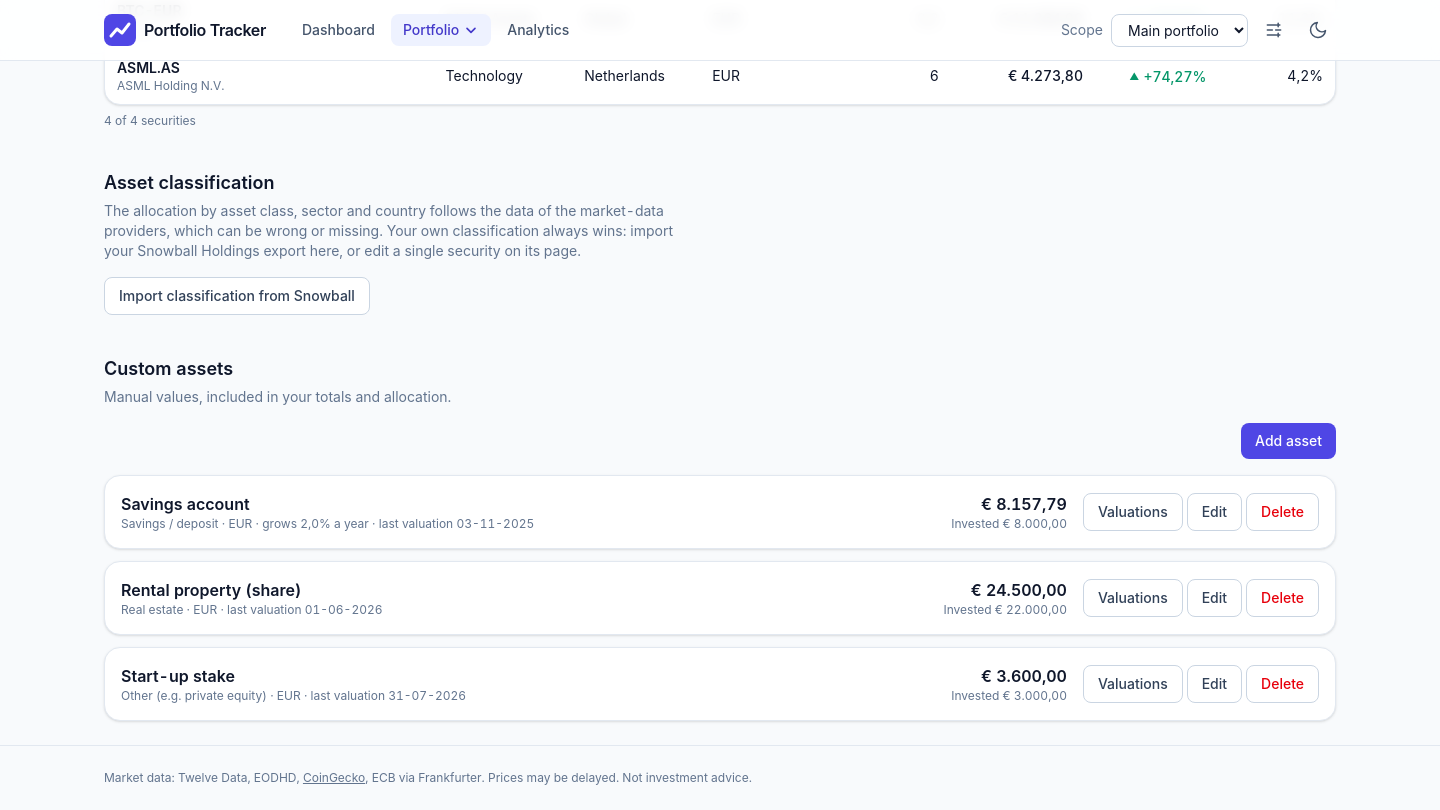
Test: AssetsPage › adds and deletes valuation points
(page scrolled)
Check: the heading "Rental property (share)" is shown, box [121,580,301,600]
Click the button with aria-label "Valuations of Savings account": (1133, 512) [1083,493,1183,531]
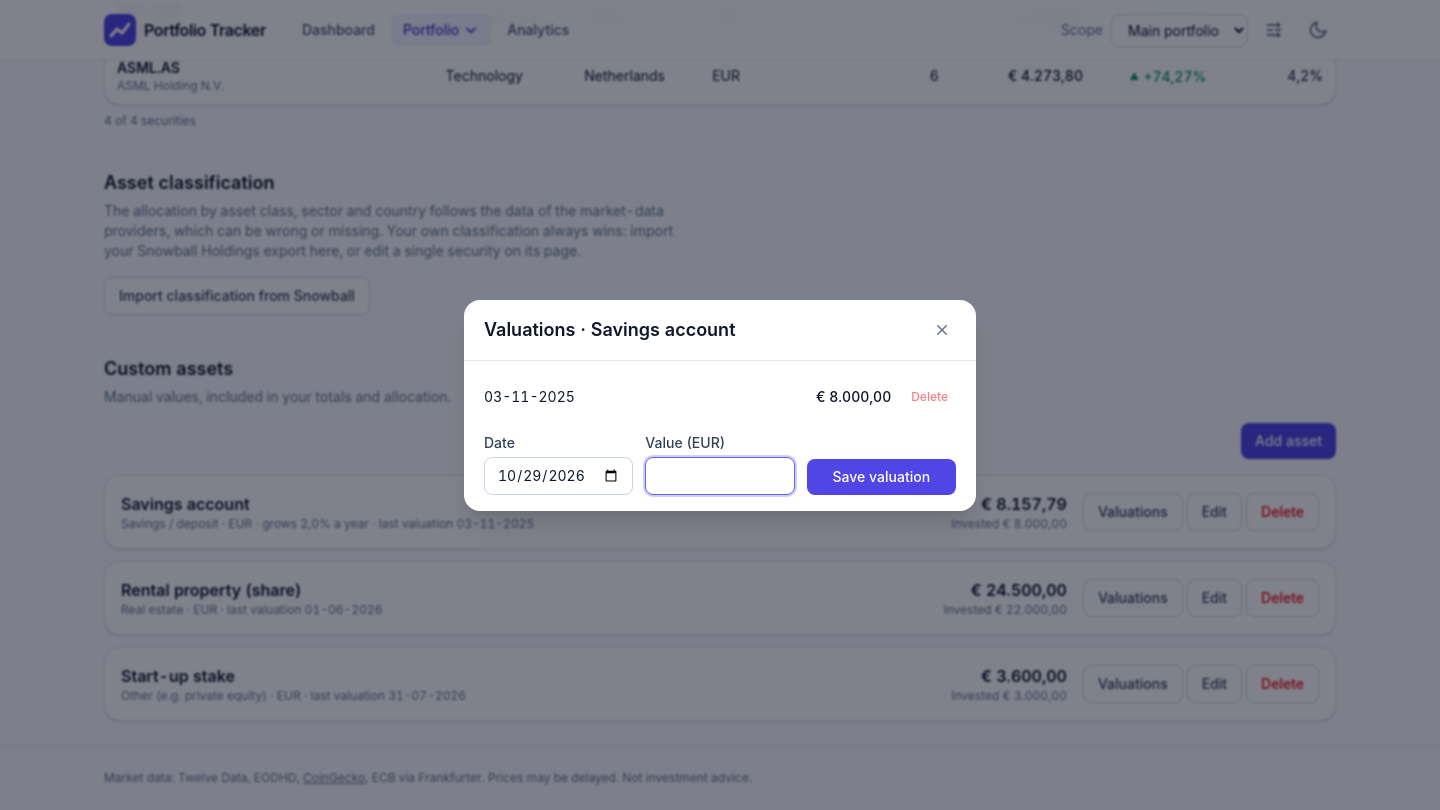
Check: the button with aria-label "Delete valuation of" is disabled, box [903,384,956,408]
Click the button "Save valuation": (881, 476) [807,458,956,494]
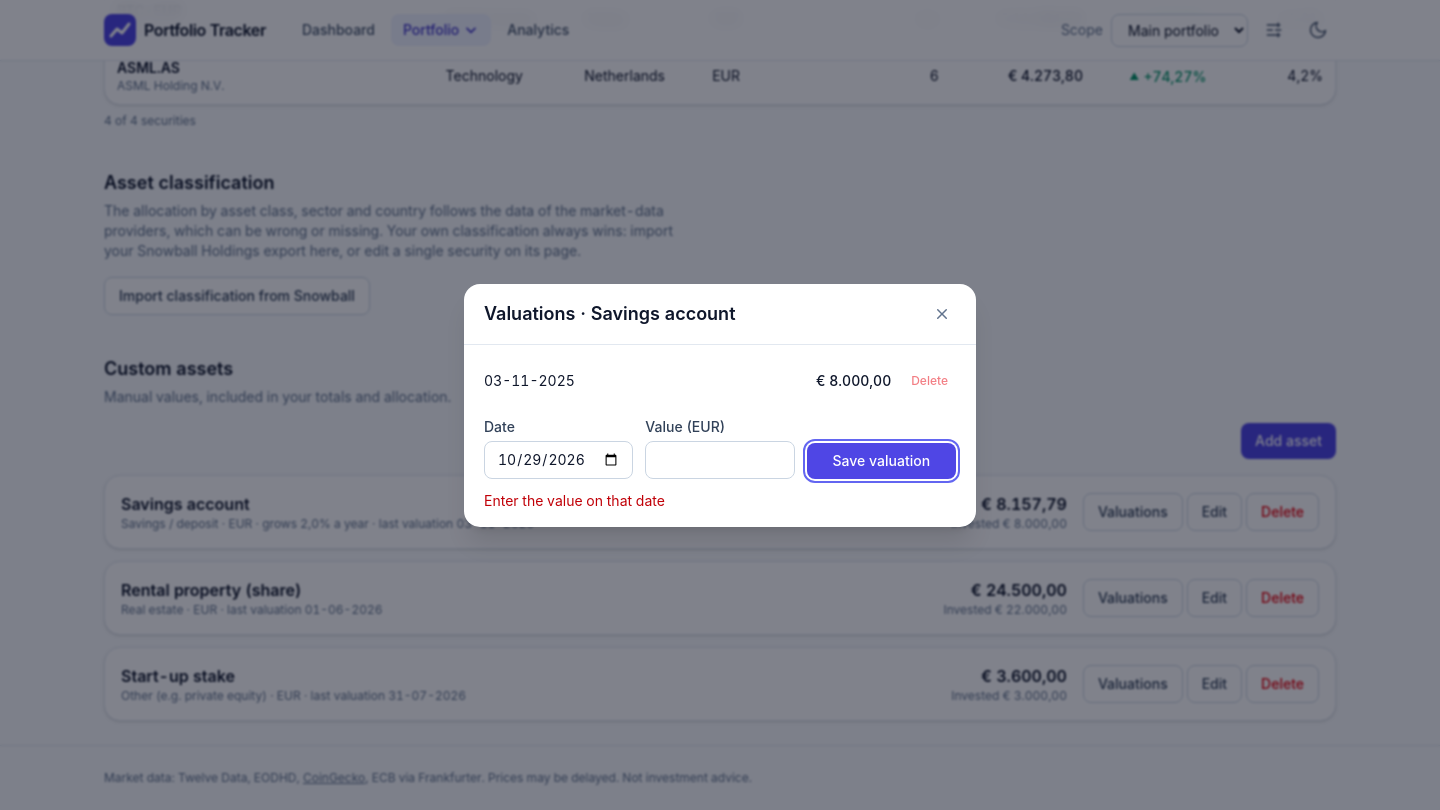
Check: the message reads "Enter the value on that date", box [484,492,665,508]
In the field labelled "Value (EUR)": (720, 460) [645,440,795,478], type "8.200,50"
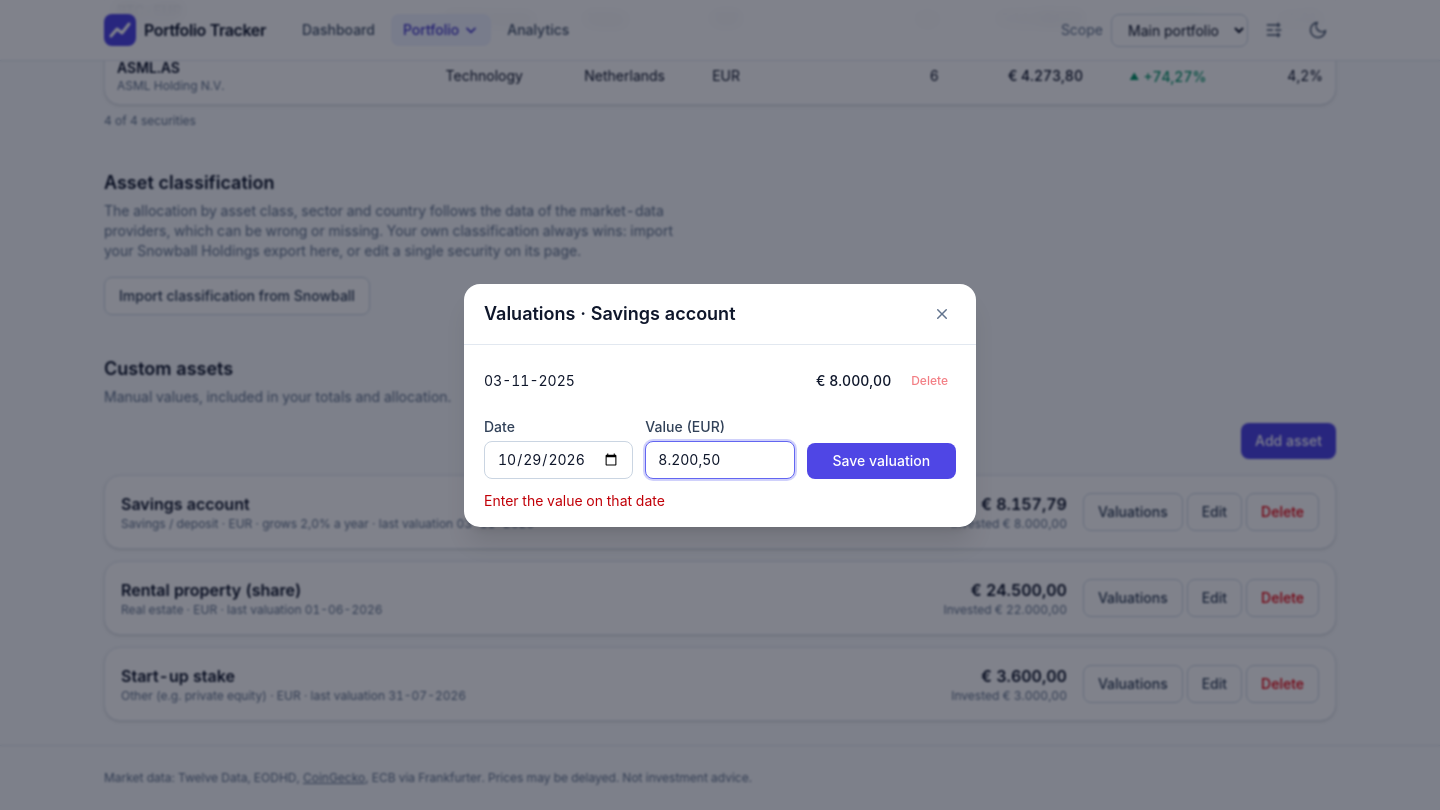
Click the button "Save valuation": (881, 460) [807,442,956,478]
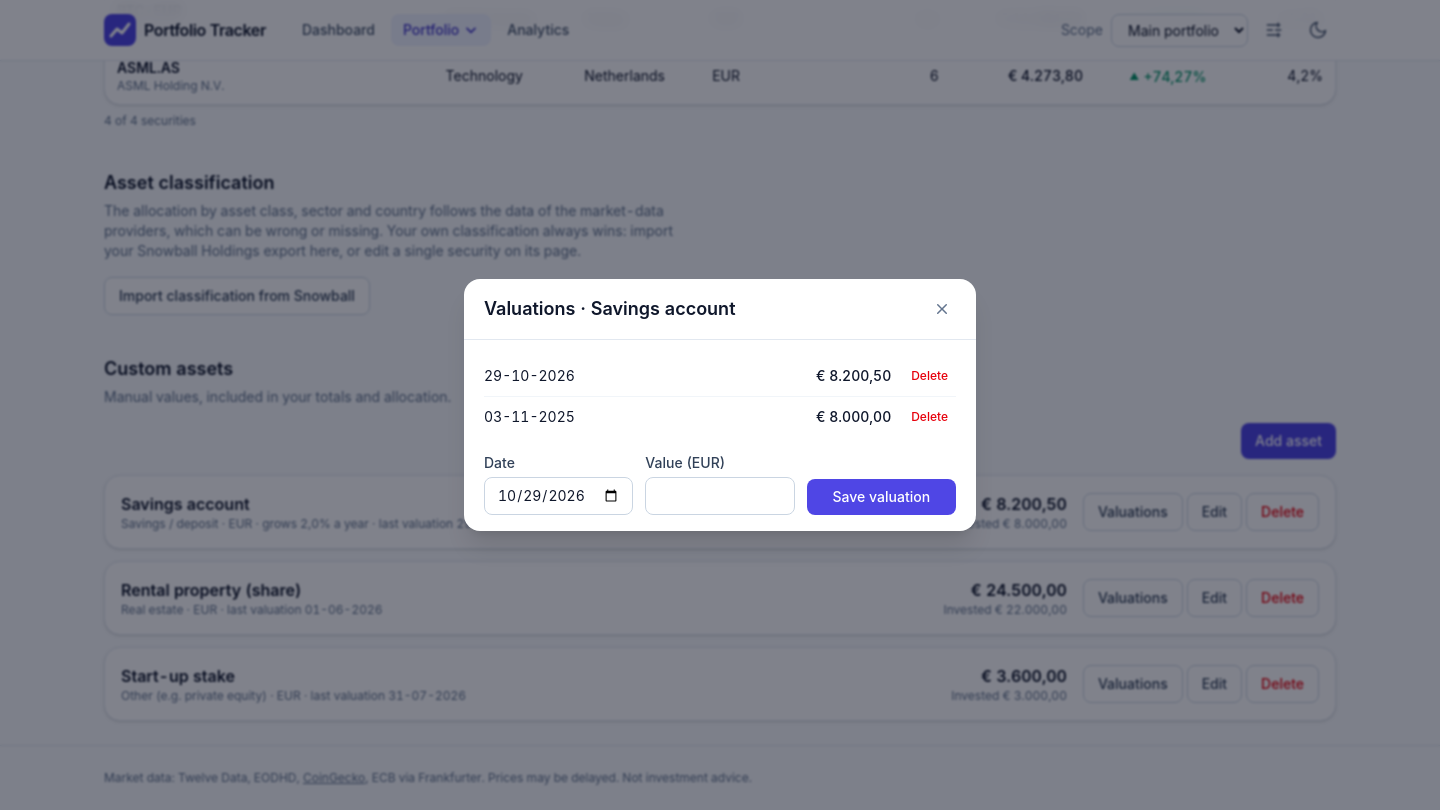
Click the button with aria-label "Delete valuation of": (930, 376) [903,364,956,388]
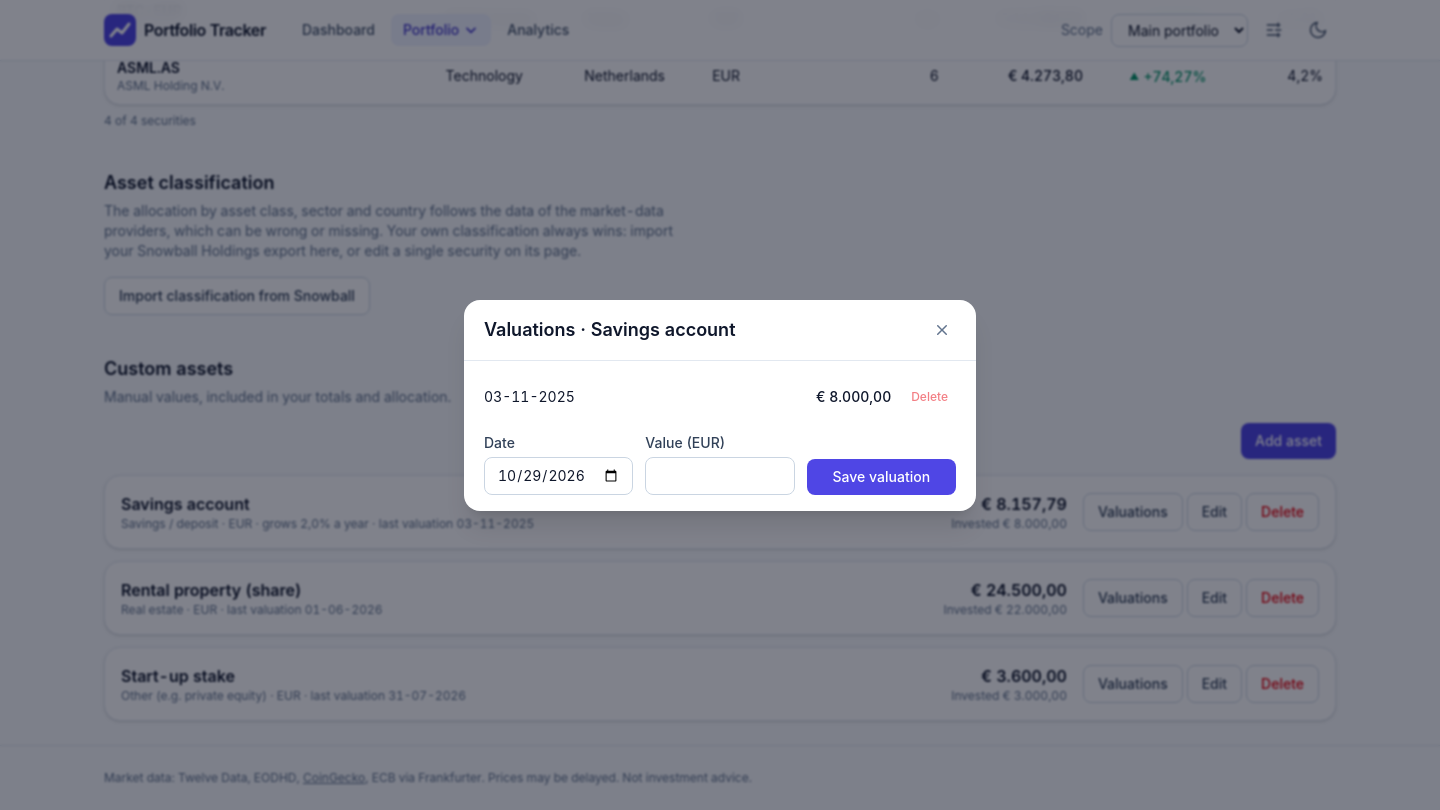
Press Escape
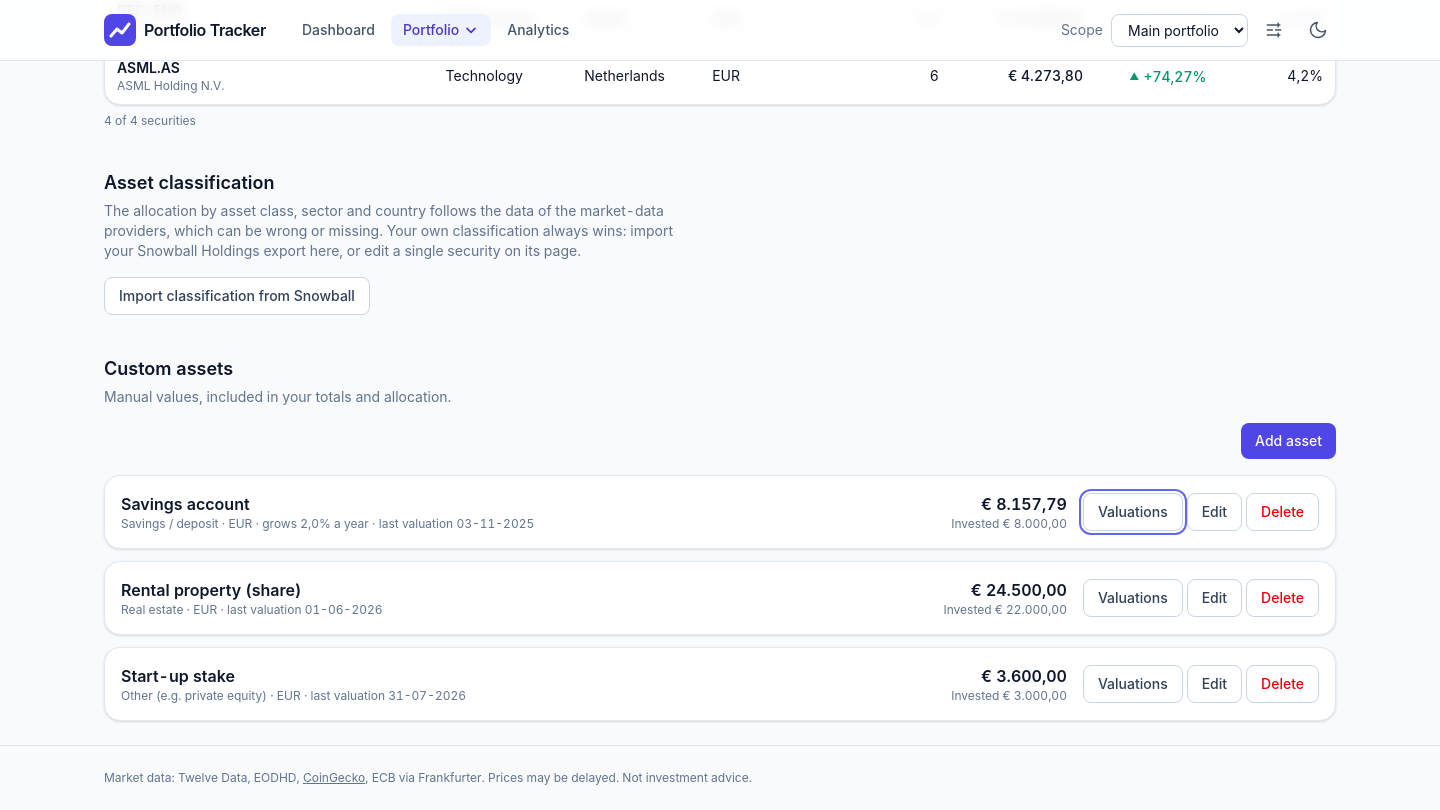
Check: the dialog is gone
